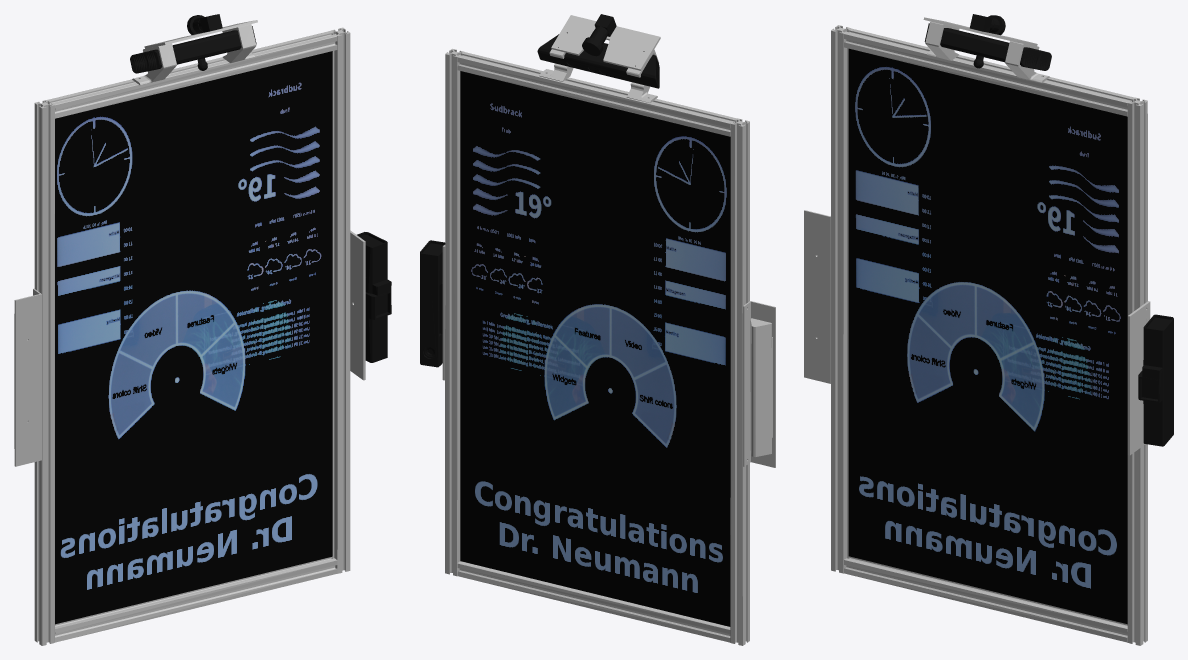
Rendered from NPB73c3BlC6Fc0HB.glb.
3 renders of one model, left to right at view 1: azimuth 30°, elevation 25°; view 2: azimuth 150°, elevation 25°; view 3: azimuth 330°, elevation 25°, orthographic. The views are drawn at different scales.
Parts seen in each view (by area): view 1: Mirror; view 2: Mirror; view 3: Mirror.
Boxes of the visible parts, bbox=[...] form: Mirror: bbox=[14, 14, 391, 645]; Mirror: bbox=[420, 14, 775, 645]; Mirror: bbox=[804, 14, 1173, 645].
Size of the model in its own units: 41.41 by 65 by 5.13.
3 materials, 1 textured.
